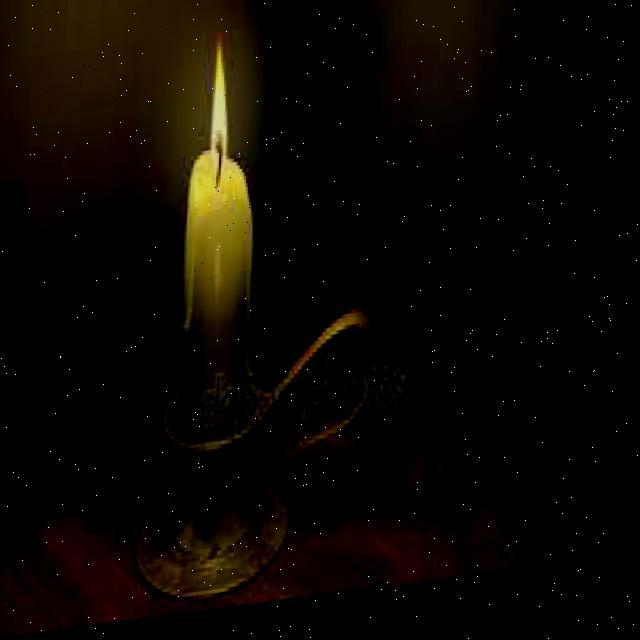Fire: (201, 39, 239, 188)
